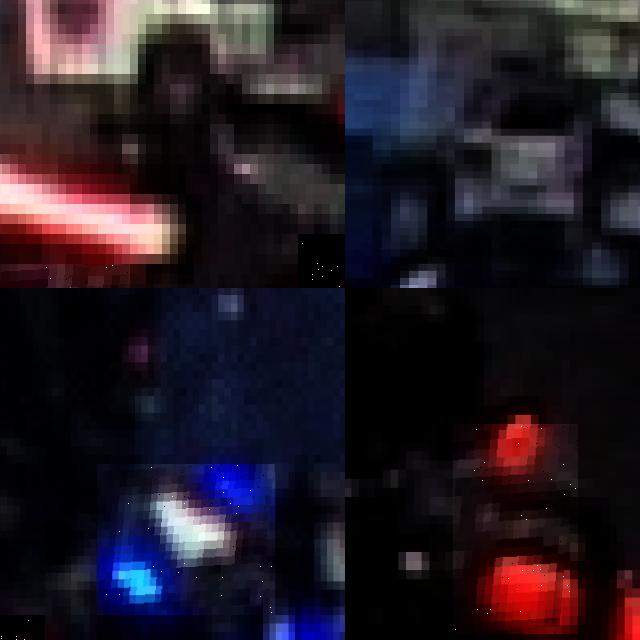B4: (97, 464, 275, 615)
R5: (453, 424, 578, 634)
